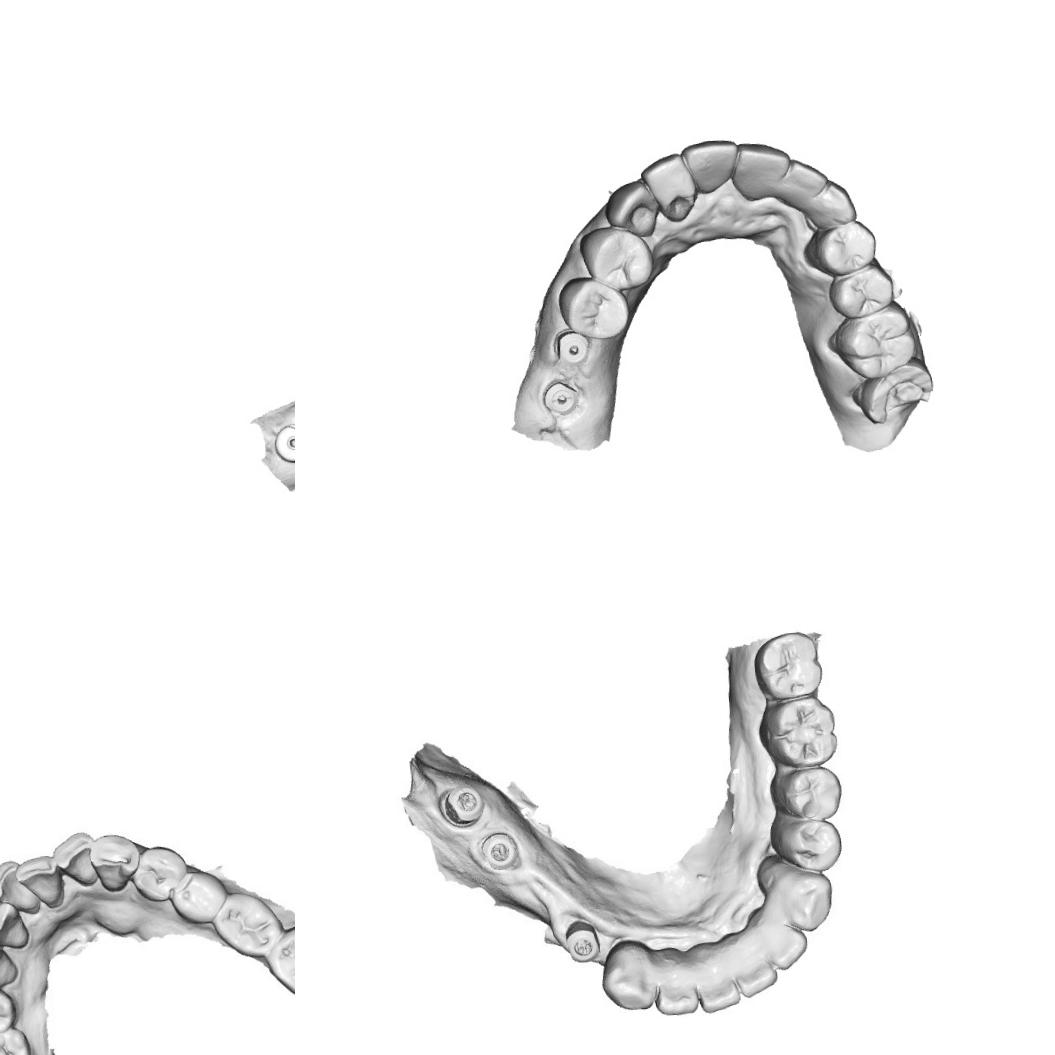canine: (768, 861, 836, 937), (596, 936, 658, 1017), (88, 830, 141, 897), (602, 179, 659, 238), (802, 180, 859, 227), (0, 936, 22, 992)
implant: (431, 780, 488, 827), (559, 915, 602, 966), (550, 324, 594, 372), (475, 834, 522, 872), (271, 420, 295, 464)
implant_minus: (538, 378, 576, 416)
incisor: (640, 148, 694, 222), (731, 140, 792, 204), (730, 936, 782, 999), (754, 914, 810, 972), (683, 137, 738, 196), (13, 851, 66, 912), (50, 828, 97, 892), (693, 958, 745, 1014), (650, 958, 700, 1016), (782, 155, 832, 206), (0, 854, 37, 915), (0, 901, 31, 948)
molar: (829, 304, 922, 378), (760, 695, 841, 770), (750, 629, 824, 704), (854, 360, 937, 423), (213, 890, 284, 960), (261, 920, 295, 1006)
premolar: (579, 222, 654, 291), (556, 272, 628, 342), (801, 214, 880, 276), (772, 816, 846, 878), (824, 260, 897, 320), (769, 766, 843, 824), (128, 844, 191, 903), (170, 869, 226, 926), (0, 1026, 33, 1055), (0, 985, 13, 1037)
